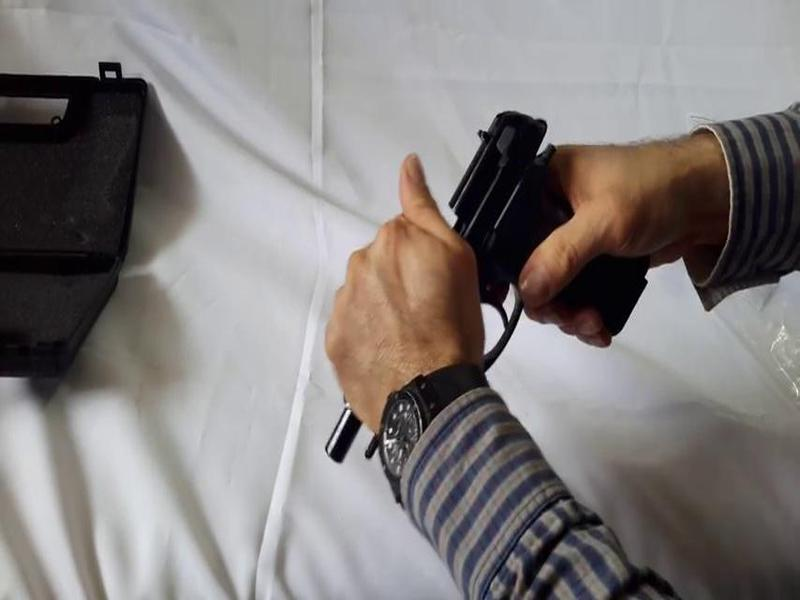Pistola: (317, 82, 678, 479)
